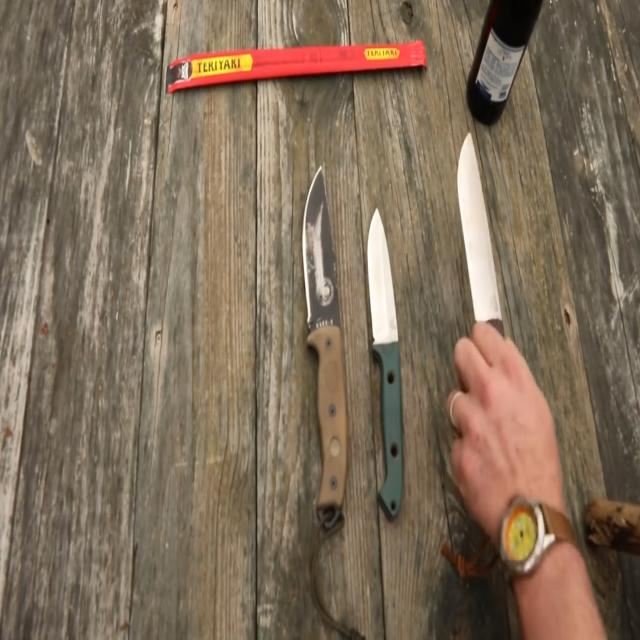knife: (300, 161, 354, 517), (367, 202, 410, 521), (451, 123, 510, 341)
